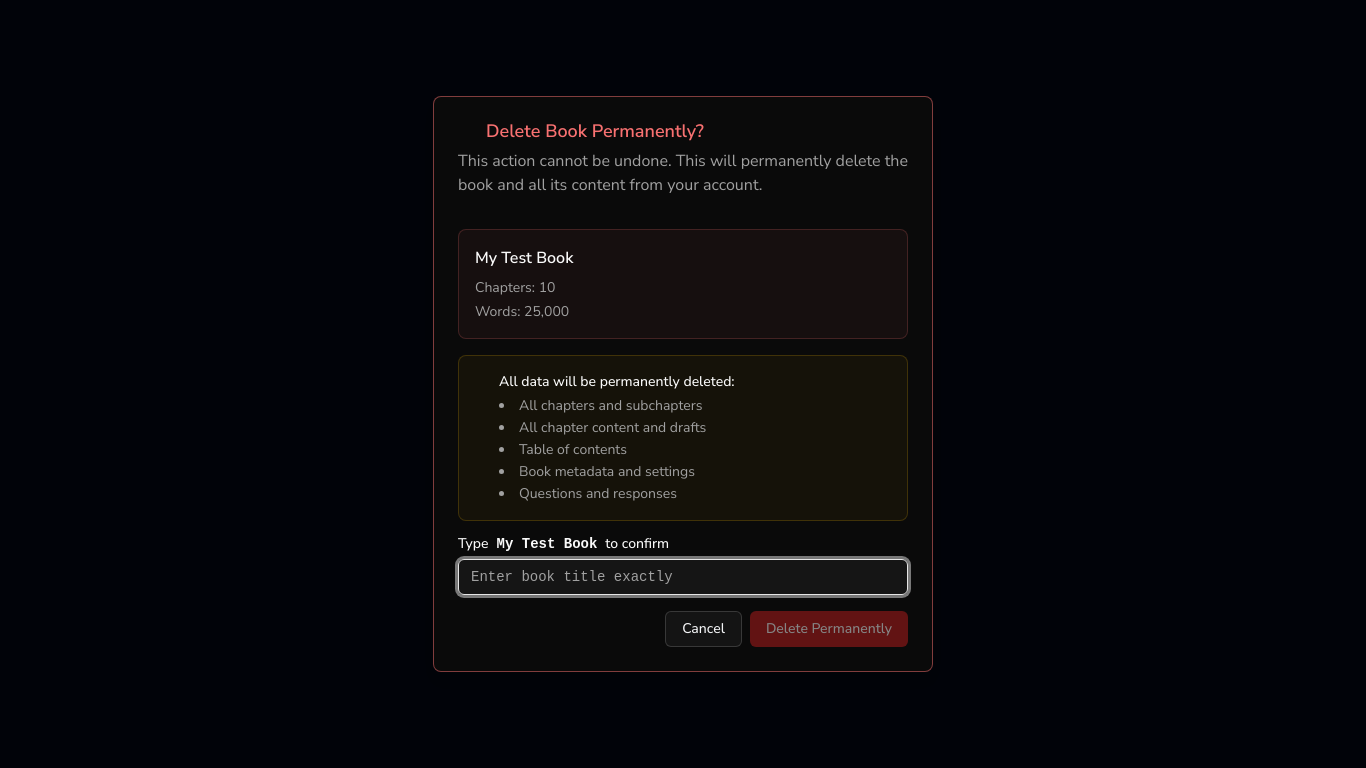
it: DeleteBookModal › Confirmation Input › is case-sensitive for title matching
Note: Type title with wrong case
Type "my test book" into the field with placeholder "Enter book title exactly".
click(683, 577); type("my test book")  # box [458, 559, 908, 595]
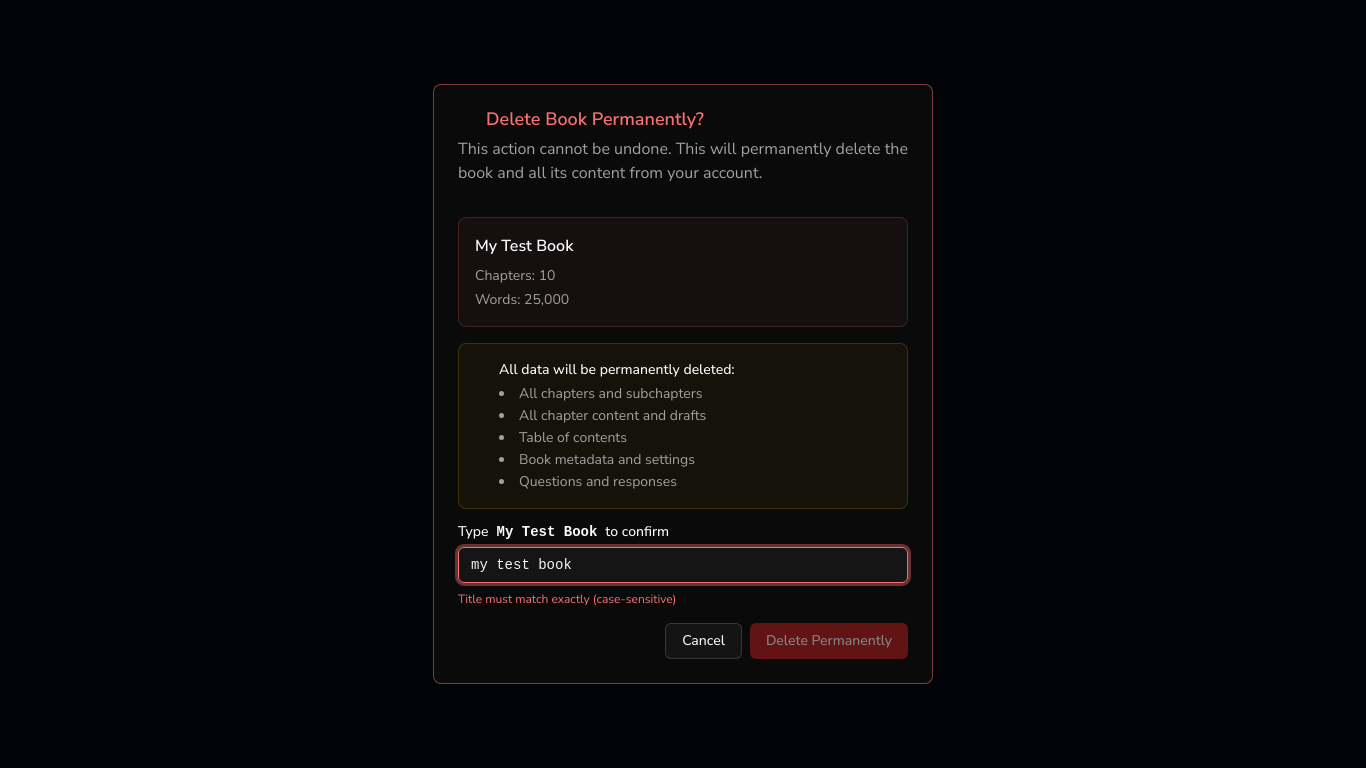
Expected: the button "Delete Permanently" is disabled, [750, 623, 908, 659]
Now the text "Title must match exactly (case-sensitive)" is shown, box [458, 591, 676, 607]
